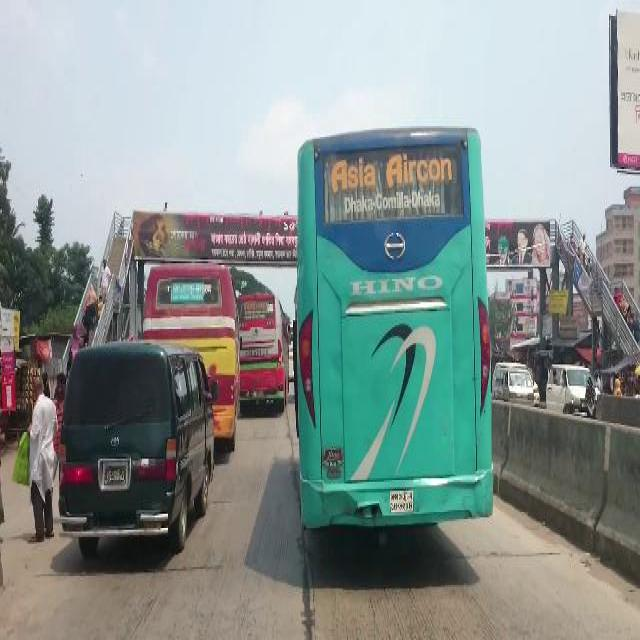bus: (286, 118, 500, 540), (144, 258, 240, 452), (237, 292, 291, 418)
minivan: (543, 361, 605, 421), (495, 364, 535, 410)
van: (55, 332, 217, 556)
